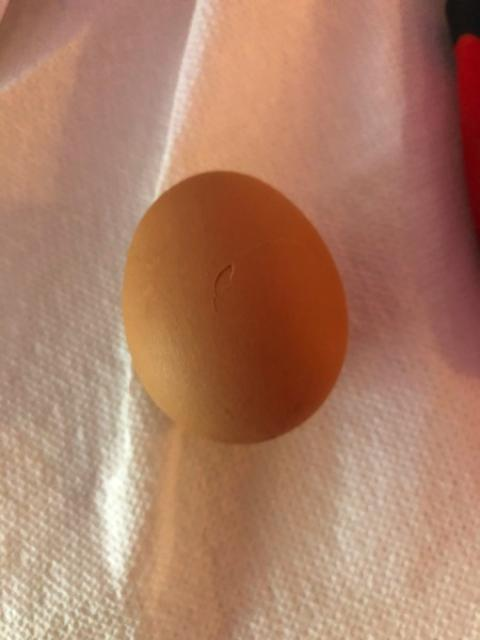Roto: (119, 167, 350, 444)
